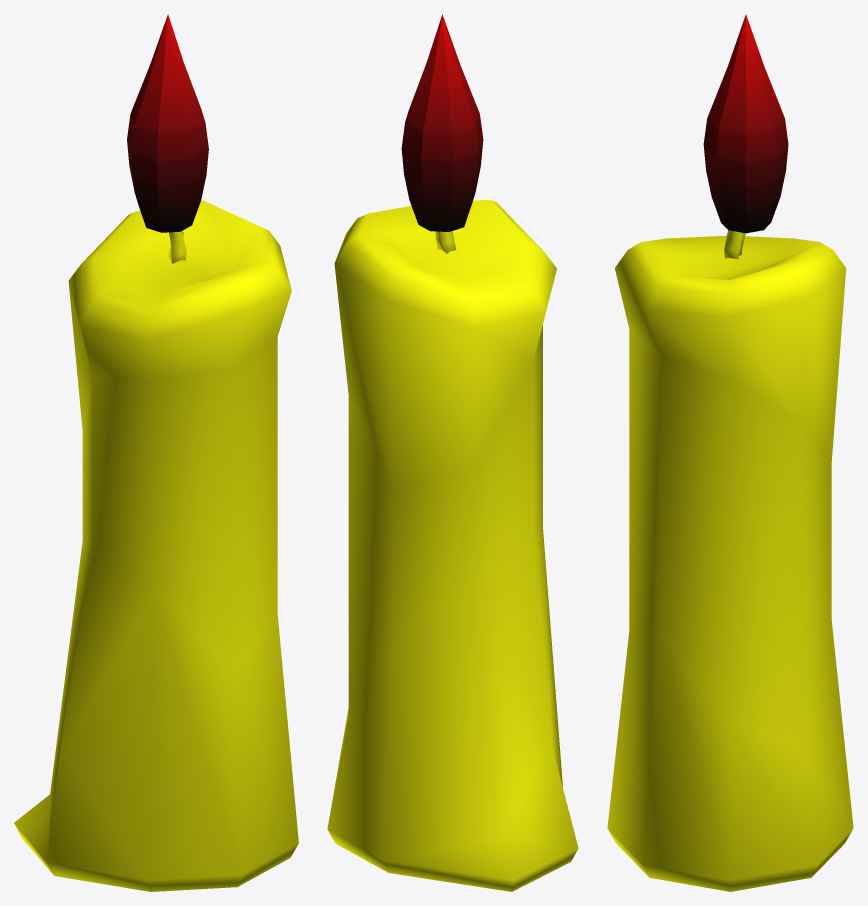
File: Candle_B.fbx
The picture shows the model from 3 angles, left to right: view 1: azimuth 30°, elevation 25°; view 2: azimuth 150°, elevation 25°; view 3: azimuth 270°, elevation 25°; orthographic projection.
Visible parts, largest first — view 1: U_Candle_B, Fire; view 2: U_Candle_B, Fire; view 3: U_Candle_B, Fire.
Part boxes in pixels (x1,y1,x2,y2): U_Candle_B: (14, 200, 298, 891); Fire: (127, 14, 208, 232); U_Candle_B: (327, 199, 578, 891); Fire: (401, 14, 483, 231); U_Candle_B: (607, 230, 853, 891); Fire: (703, 14, 788, 233).
Bounding box in the file's own units: 25.06 × 82.61 × 22.27.
